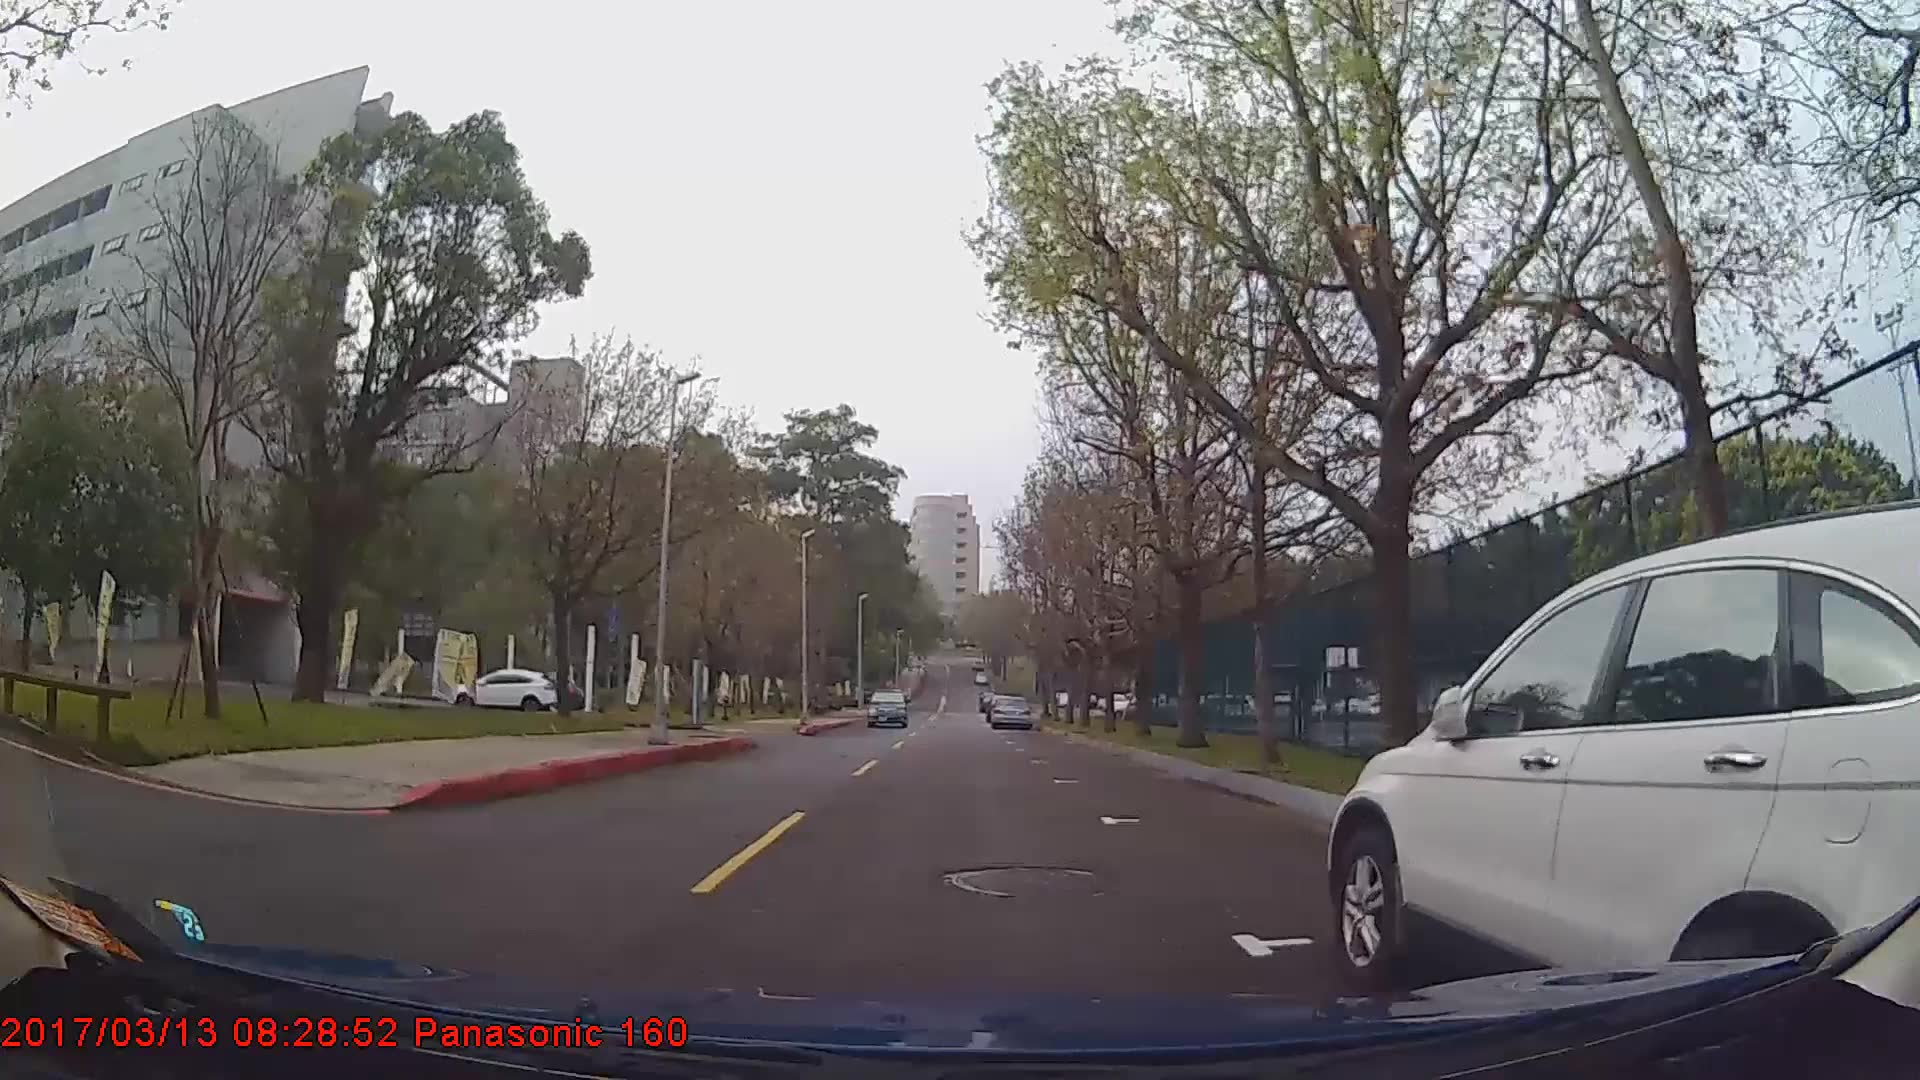vehicle: (1328, 500, 1913, 1031), (454, 666, 560, 713), (866, 686, 909, 728), (989, 692, 1033, 731)
